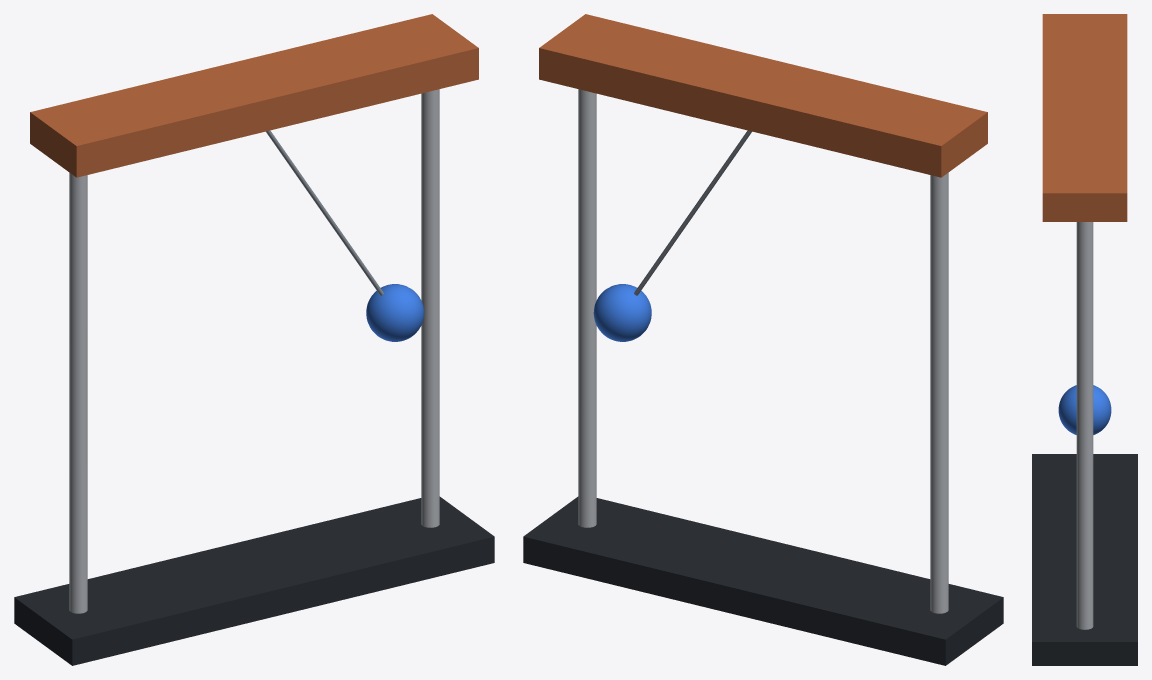
Rendered from bandul-sederhana.glb.
3 views of the same model, side by side, from view 1: azimuth 30°, elevation 25°; view 2: azimuth 150°, elevation 25°; view 3: azimuth 270°, elevation 25° (orthographic). The views are drawn at different scales.
Parts seen in each view (by area): view 1: Alas, PalangAtas, Tiang1, Tiang2, Bola, Tali; view 2: Alas, PalangAtas, Tiang1, Tiang2, Bola, Tali; view 3: Alas, PalangAtas, Tiang2, Bola.
Boxes of the visible parts, box(x1,y1,x2,y2) form: Alas: box(14, 496, 494, 665); PalangAtas: box(30, 14, 478, 177); Tiang1: box(69, 172, 87, 613); Tiang2: box(421, 89, 439, 527); Bola: box(366, 284, 424, 341); Tali: box(266, 130, 383, 295); Alas: box(523, 496, 1003, 665); PalangAtas: box(539, 14, 987, 177); Tiang1: box(930, 172, 948, 613); Tiang2: box(578, 89, 596, 527); Bola: box(593, 284, 651, 341); Tali: box(634, 130, 751, 295); Alas: box(1032, 454, 1137, 665); PalangAtas: box(1042, 14, 1127, 221); Tiang2: box(1076, 222, 1093, 629); Bola: box(1058, 385, 1111, 434).
Bounding box in the file's own units: 0.84 × 0.975 × 0.2.
